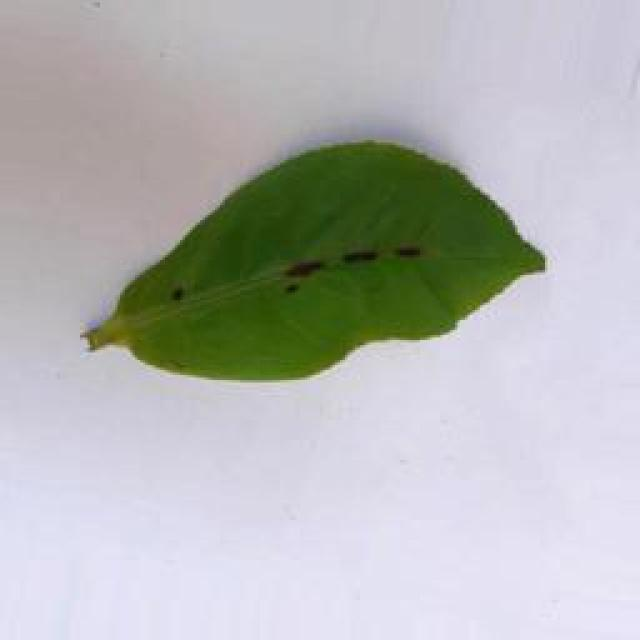Helopeltis: (89, 135, 545, 393)
